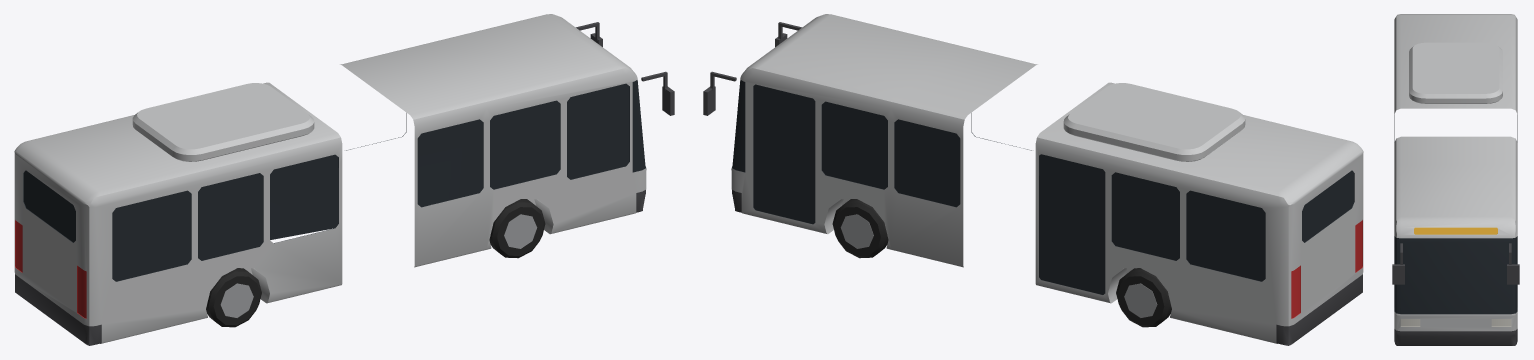
The model's file is Bus.glb.
3 renders of one model, left to right at view 1: azimuth 30°, elevation 25°; view 2: azimuth 150°, elevation 25°; view 3: azimuth 270°, elevation 25°, orthographic. The views are drawn at different scales.
Visible parts, largest first — view 1: Rear, Front, MidBay; view 2: Rear, Front, MidBay; view 3: Front, Rear, MidBay.
Part boxes in pixels (<box>): Rear: <box>14,82,342,345</box>; Front: <box>412,14,674,258</box>; MidBay: <box>340,47,486,267</box>; Rear: <box>1035,82,1363,345</box>; Front: <box>703,14,965,258</box>; MidBay: <box>891,47,1037,267</box>; Front: <box>1392,165,1519,345</box>; Rear: <box>1394,14,1517,141</box>; MidBay: <box>1394,136,1517,170</box>.
Bounding box in the file's own units: 10.94 × 3.2 × 2.58.
